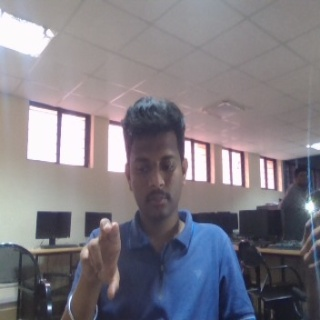Face: (121, 94, 189, 222)
No: (78, 215, 122, 303)
